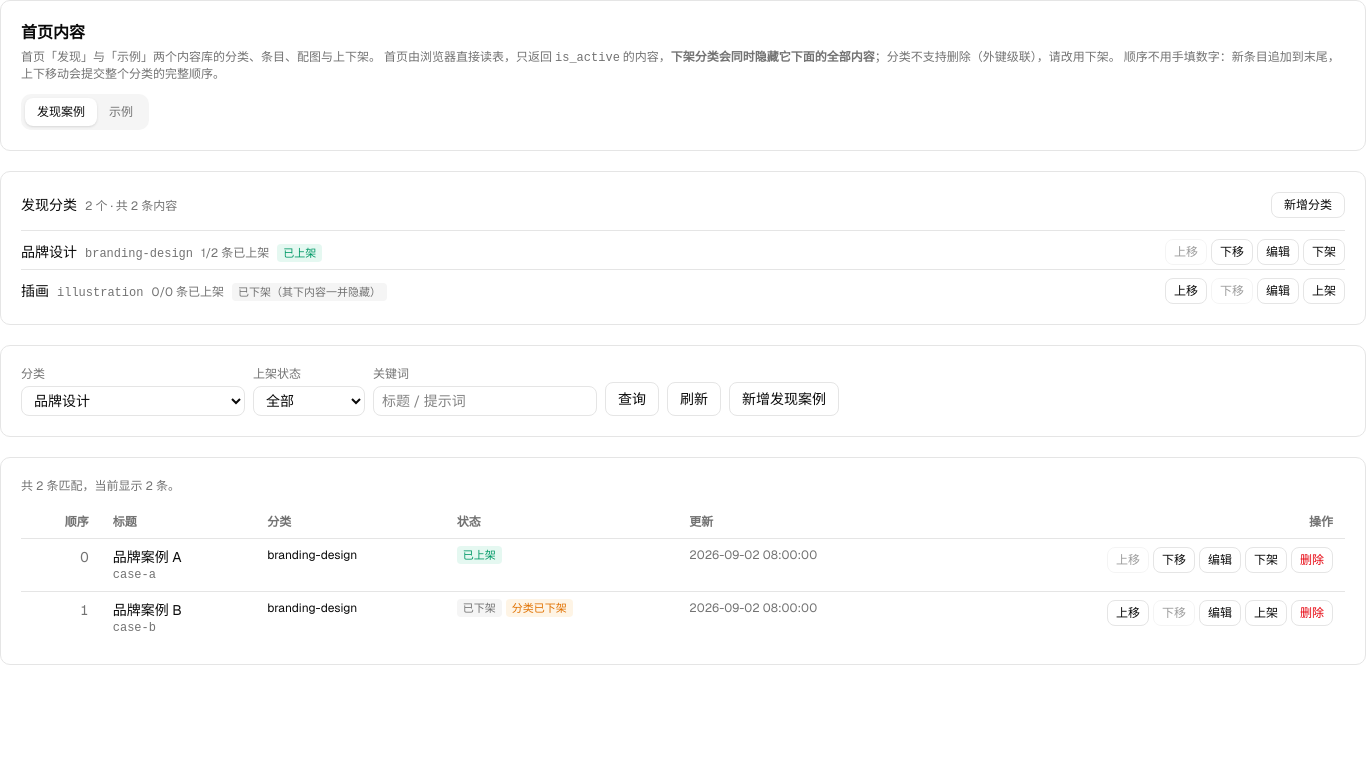
Test: admin home content section › filters on submit and disables reordering while a filter hides entries
Expected: the table with test id "admin-home-table" is shown, [21, 506, 1345, 644]
Select "已上架" in the dropdown named "内容上架状态" at (309, 401), box [253, 386, 365, 416]
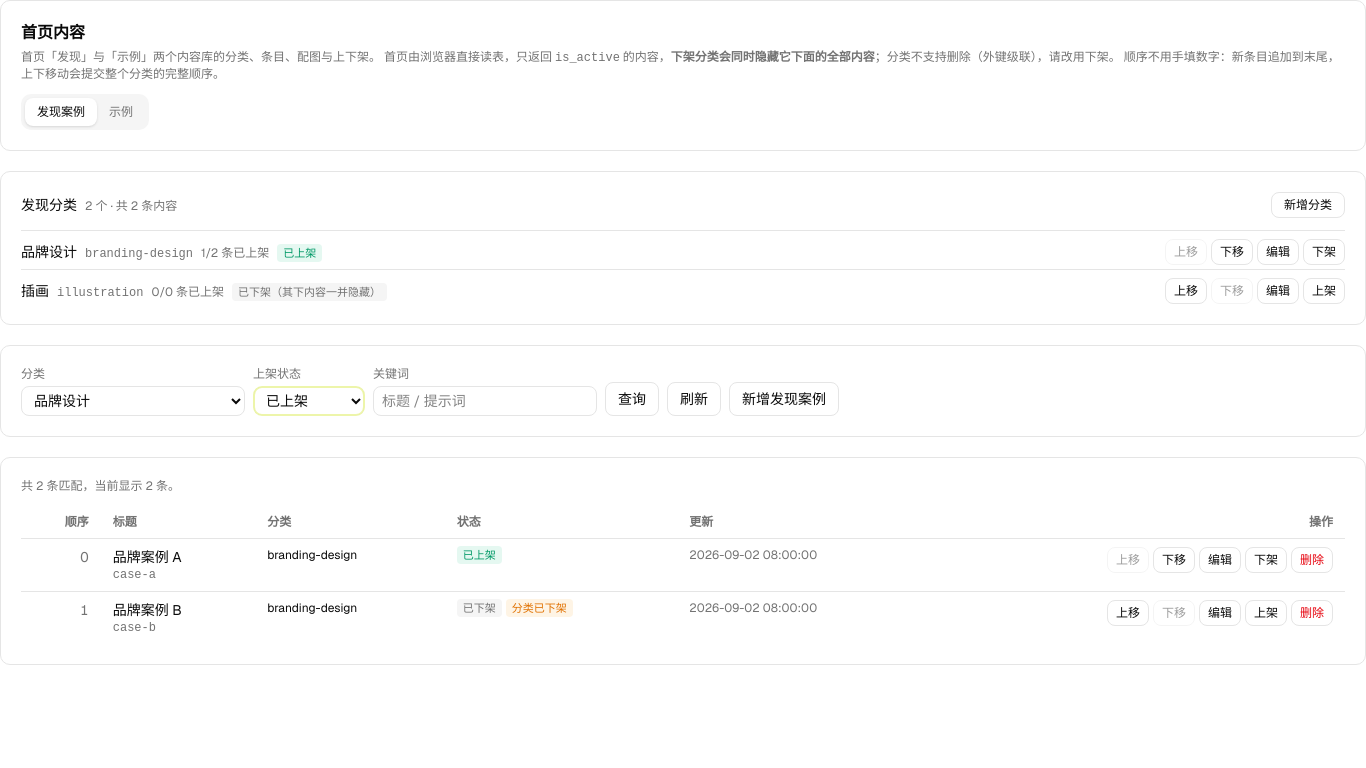
Click the button "查询".
click(632, 399)  # box [605, 382, 659, 416]
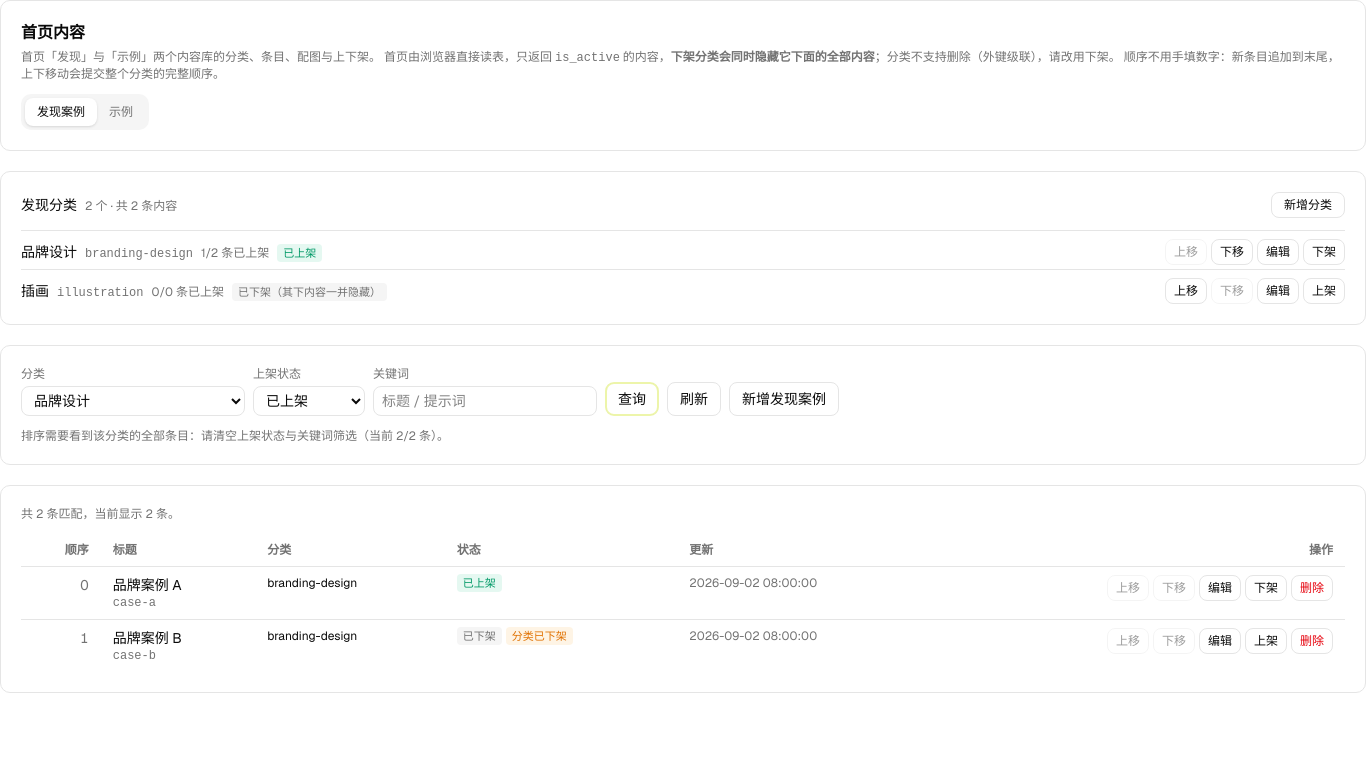
Expected: the button "上移" in the row of "品牌案例 A" is disabled, [1107, 575, 1149, 601]
Expected: the text "排序需要看到该分类的全部条目：请清空上架状态与关键词筛选（当前 2/2 条）。" is shown, [21, 428, 449, 444]
